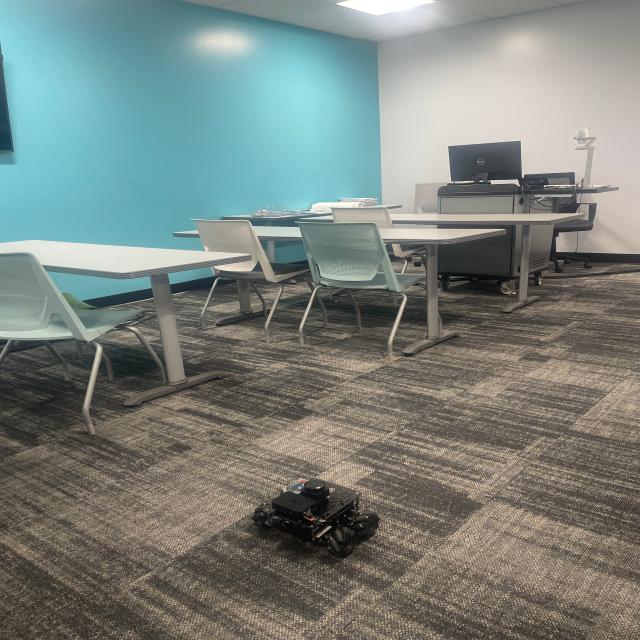ArduinoCar: (252, 470, 376, 557)
